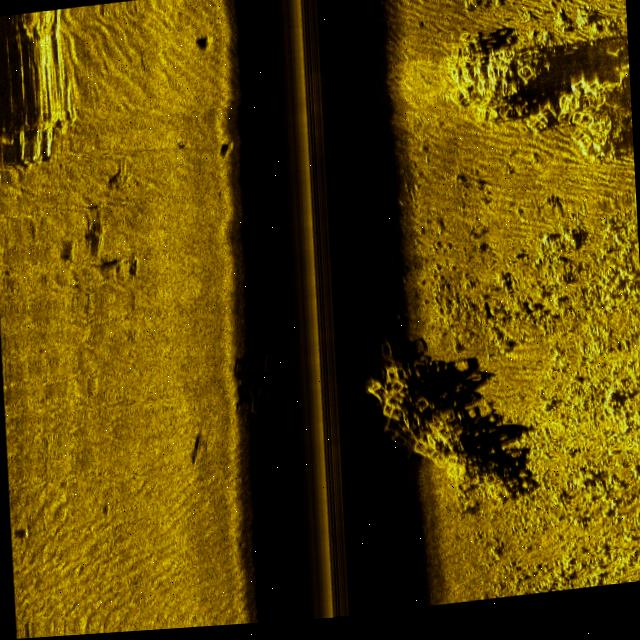artificial reef: (362, 321, 526, 544), (456, 38, 632, 168), (240, 355, 288, 443)
